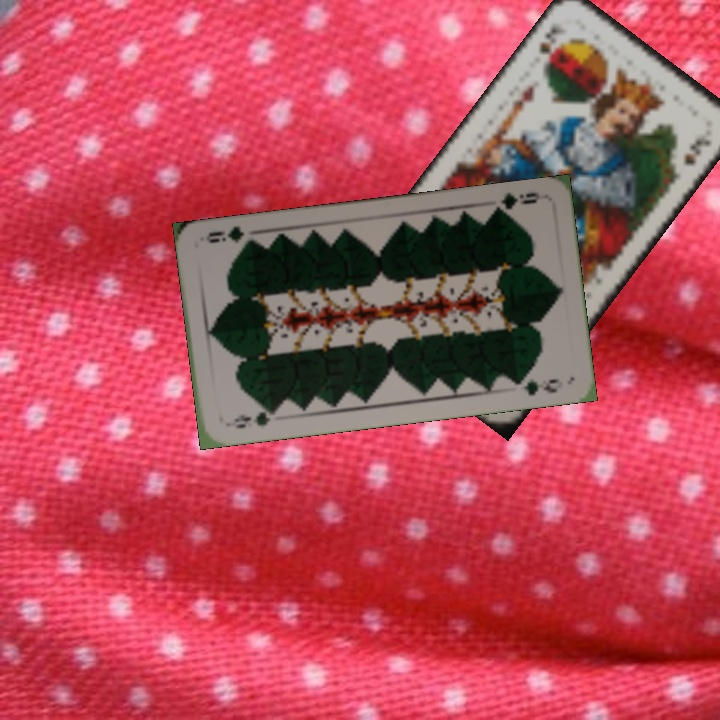G9: (488, 188, 546, 218), (222, 404, 280, 431)
SK: (534, 22, 567, 70)
